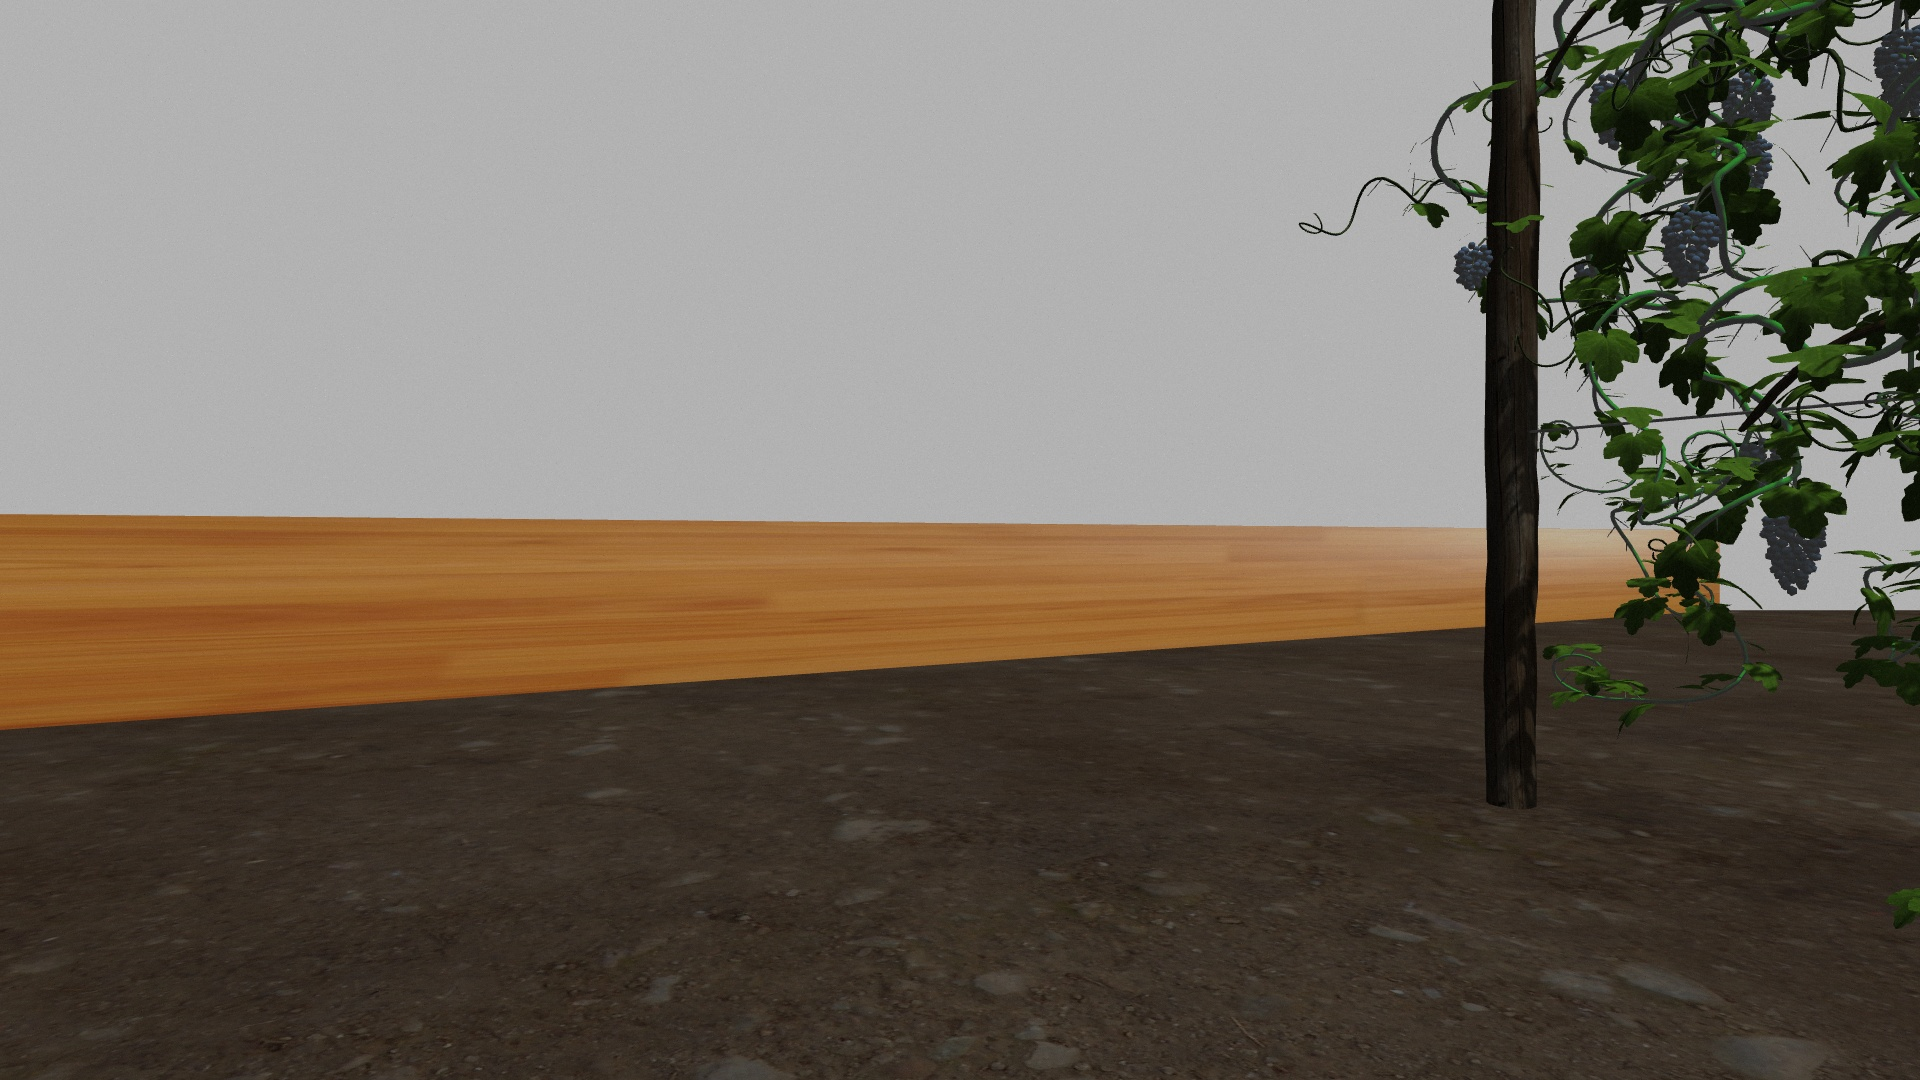grape: (1759, 504, 1828, 596), (1662, 203, 1722, 286), (1873, 29, 1917, 117), (1720, 70, 1776, 133), (1453, 243, 1494, 291)
